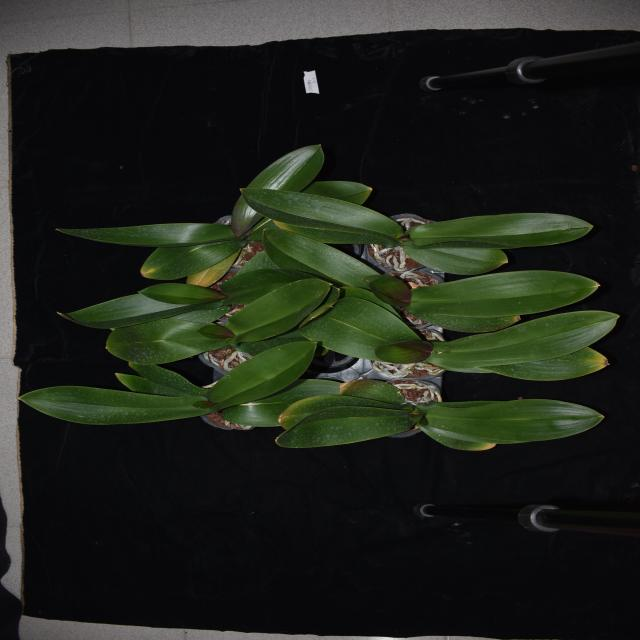leaf: (432, 310, 620, 370), (404, 269, 602, 316), (229, 143, 326, 237), (238, 187, 406, 237), (418, 398, 603, 442), (407, 208, 594, 250), (305, 296, 422, 362), (210, 341, 318, 412), (19, 386, 211, 425), (261, 227, 377, 288), (228, 278, 331, 343), (219, 378, 342, 427), (275, 406, 414, 447), (104, 320, 228, 364), (55, 293, 218, 326), (472, 345, 612, 382), (140, 235, 246, 281), (277, 394, 413, 429), (56, 222, 235, 246), (223, 268, 327, 305), (400, 240, 508, 274), (273, 220, 400, 248), (111, 362, 209, 396), (418, 421, 498, 451), (338, 287, 404, 322), (184, 248, 240, 288), (401, 314, 521, 332), (138, 282, 229, 305), (299, 181, 373, 205), (339, 379, 406, 403), (373, 338, 434, 363), (364, 273, 410, 305), (198, 322, 235, 340), (191, 400, 216, 410)
